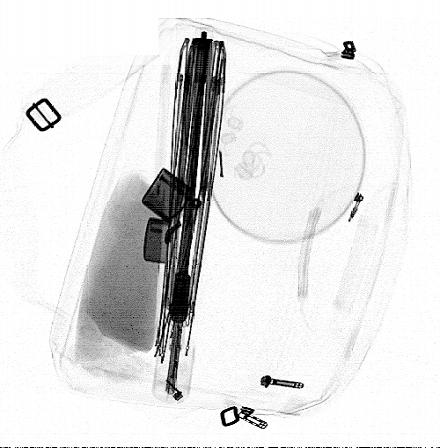Lighter: (141, 167, 203, 264)
